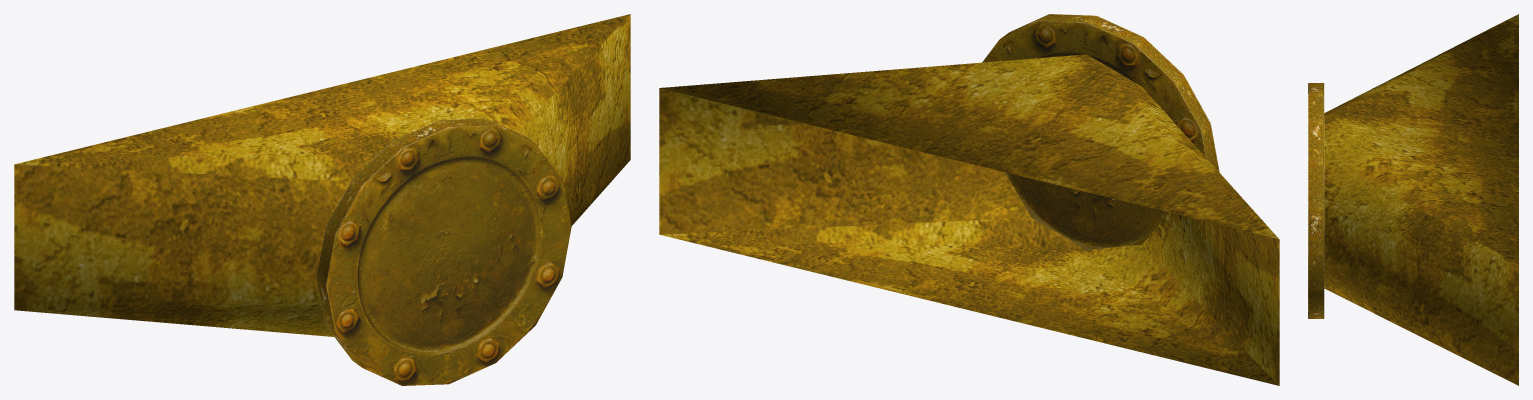
The model's file is gate_yellow.DAE.
3 views of the same model, side by side, from view 1: azimuth 30°, elevation 25°; view 2: azimuth 150°, elevation 25°; view 3: azimuth 270°, elevation 25° (orthographic). The views are drawn at different scales.
Parts seen in each view (by area): view 1: Object532, Object533; view 2: Object532, Object533; view 3: Object532, Object533.
Boxes of the visible parts, box(x1,y1,x2,y2) form: Object532: box(14, 14, 630, 336); Object533: box(316, 118, 571, 385); Object532: box(659, 54, 1279, 385); Object533: box(982, 14, 1219, 249); Object532: box(1324, 14, 1518, 385); Object533: box(1308, 83, 1324, 318).
Size of the model in its own units: 1.65 by 0.5858 by 0.6566.
